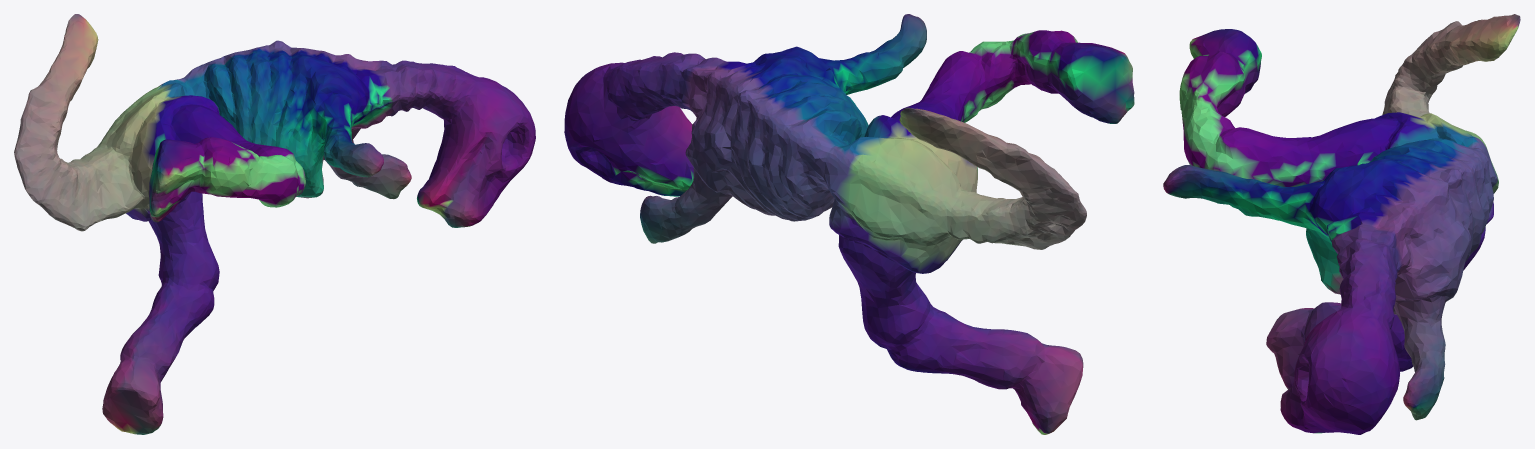
The model's file is dino_skel-17.off.obj.
The picture shows the model from 3 angles, left to right: view 1: azimuth 30°, elevation 25°; view 2: azimuth 150°, elevation 25°; view 3: azimuth 270°, elevation 25°; orthographic projection. The views are drawn at different scales.
Bounding box in the file's own units: 1.63 × 1.12 × 0.9128.
